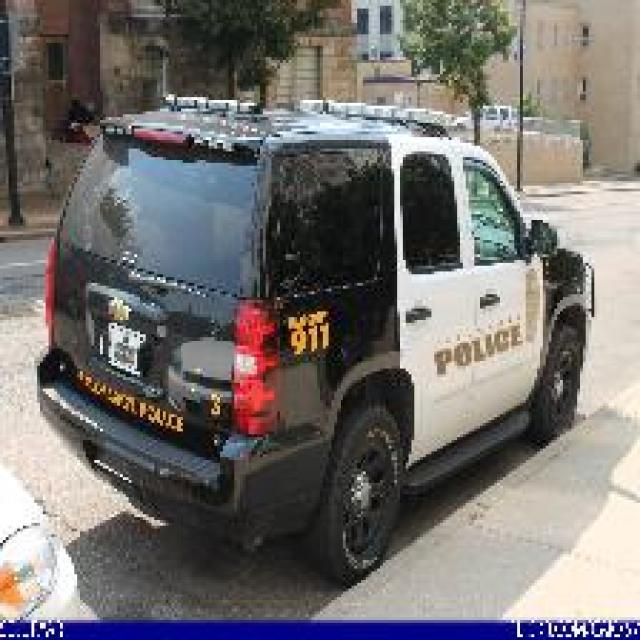Police-car: (34, 91, 594, 586)
